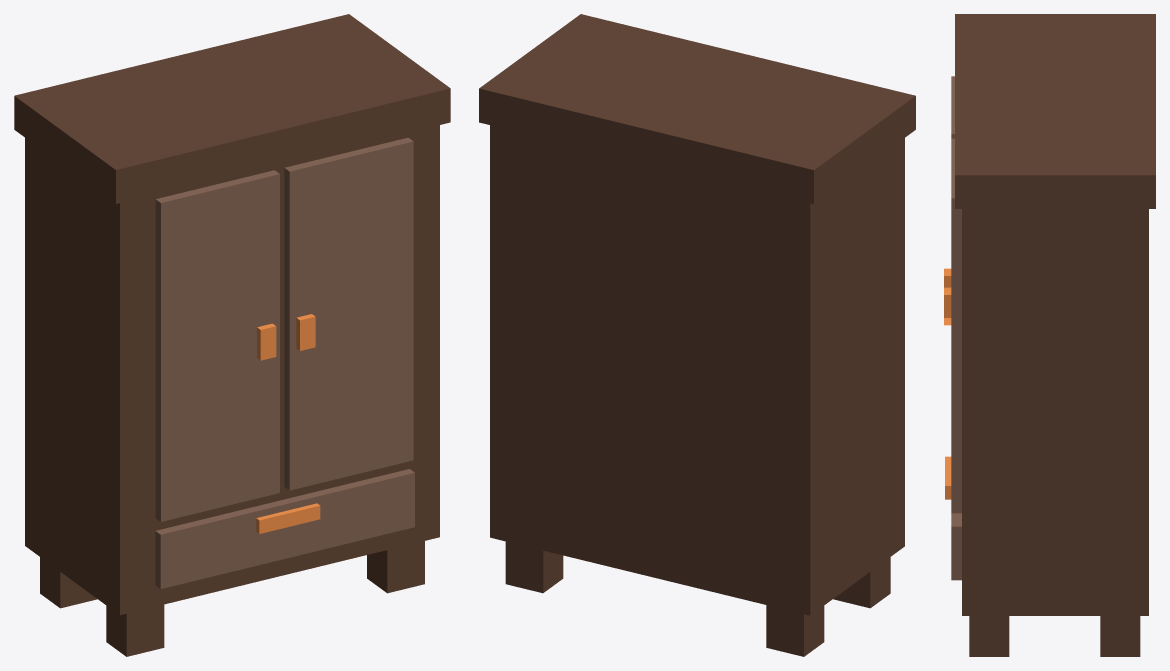
The model's file is Wardrobe 01.FBX.
The picture shows the model from 3 angles, left to right: view 1: azimuth 30°, elevation 25°; view 2: azimuth 150°, elevation 25°; view 3: azimuth 270°, elevation 25°; orthographic projection.
Visible parts, largest first — view 1: Wardrobe 01; view 2: Wardrobe 01; view 3: Wardrobe 01.
Boxes of the visible parts, left/top/right/bottom form: Wardrobe 01: left=14, top=14, right=450, bottom=656; Wardrobe 01: left=479, top=14, right=915, bottom=656; Wardrobe 01: left=944, top=14, right=1155, bottom=656.
Size of the model in its own units: 125 by 178 by 69.58.
